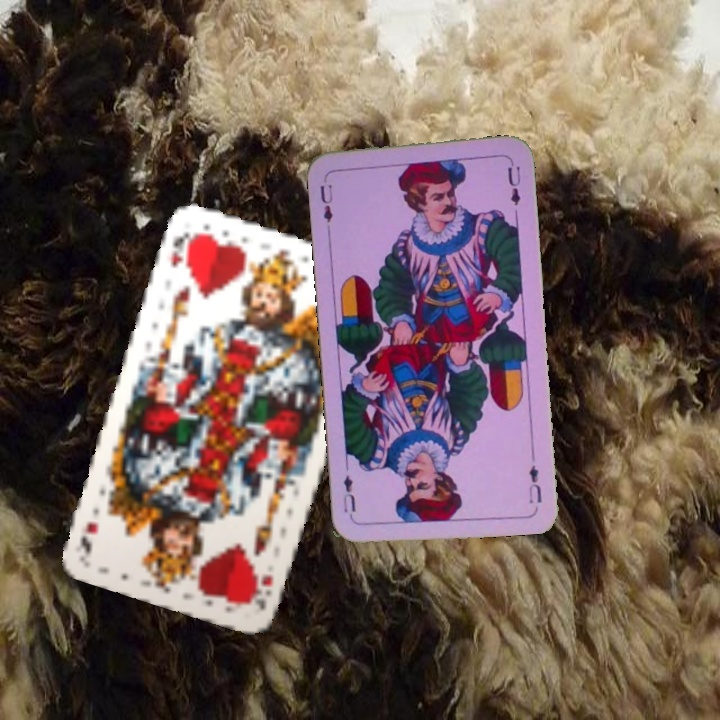EU: (316, 173, 335, 226), (524, 461, 544, 506)
HK: (166, 228, 198, 271), (245, 570, 276, 613)
